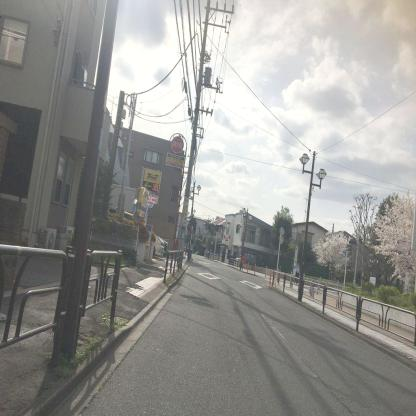Someiyoshino: (372, 189, 416, 287), (310, 226, 352, 274)
